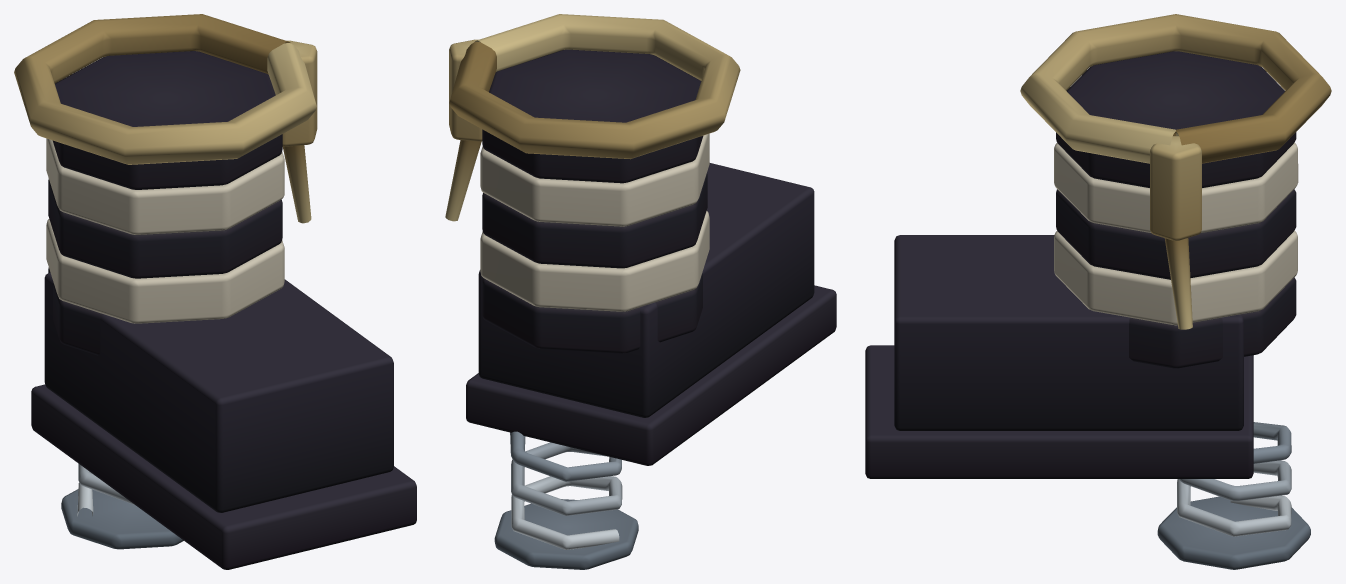
The model's file is lg_gallows_hoppers.glb.
3 renders of one model, left to right at view 1: azimuth 30°, elevation 25°; view 2: azimuth 150°, elevation 25°; view 3: azimuth 270°, elevation 25°, orthographic. The views are drawn at different scales.
Parts seen in each view (by area): view 1: lg_gallows_hoppers; view 2: lg_gallows_hoppers; view 3: lg_gallows_hoppers.
Boxes of the visible parts, <box> form: lg_gallows_hoppers: <box>14,14,416,569</box>; lg_gallows_hoppers: <box>445,14,836,569</box>; lg_gallows_hoppers: <box>865,14,1331,569</box>.
Size of the model in its own units: 0.6768 by 1.06 by 0.9608.
